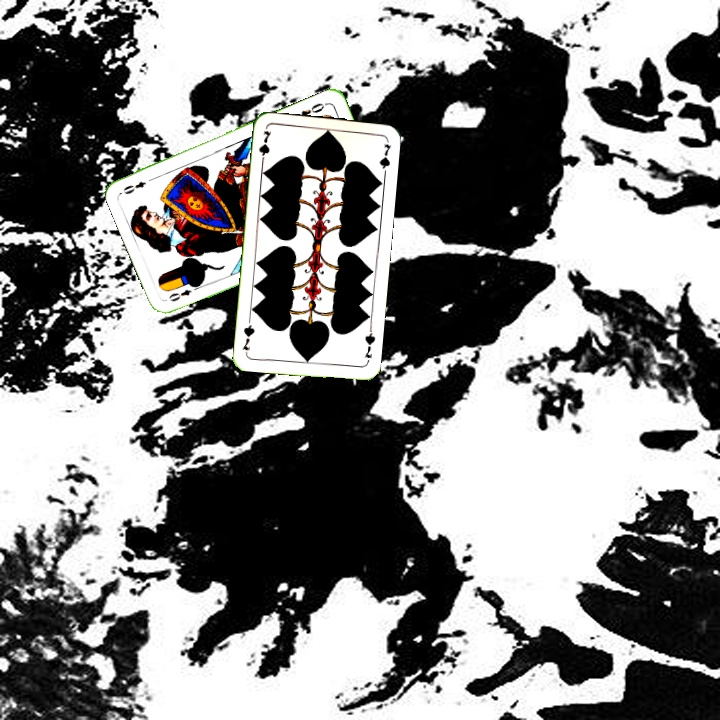EO: (164, 281, 202, 304), (295, 99, 327, 120)
G7: (255, 126, 273, 167), (360, 325, 378, 361)
